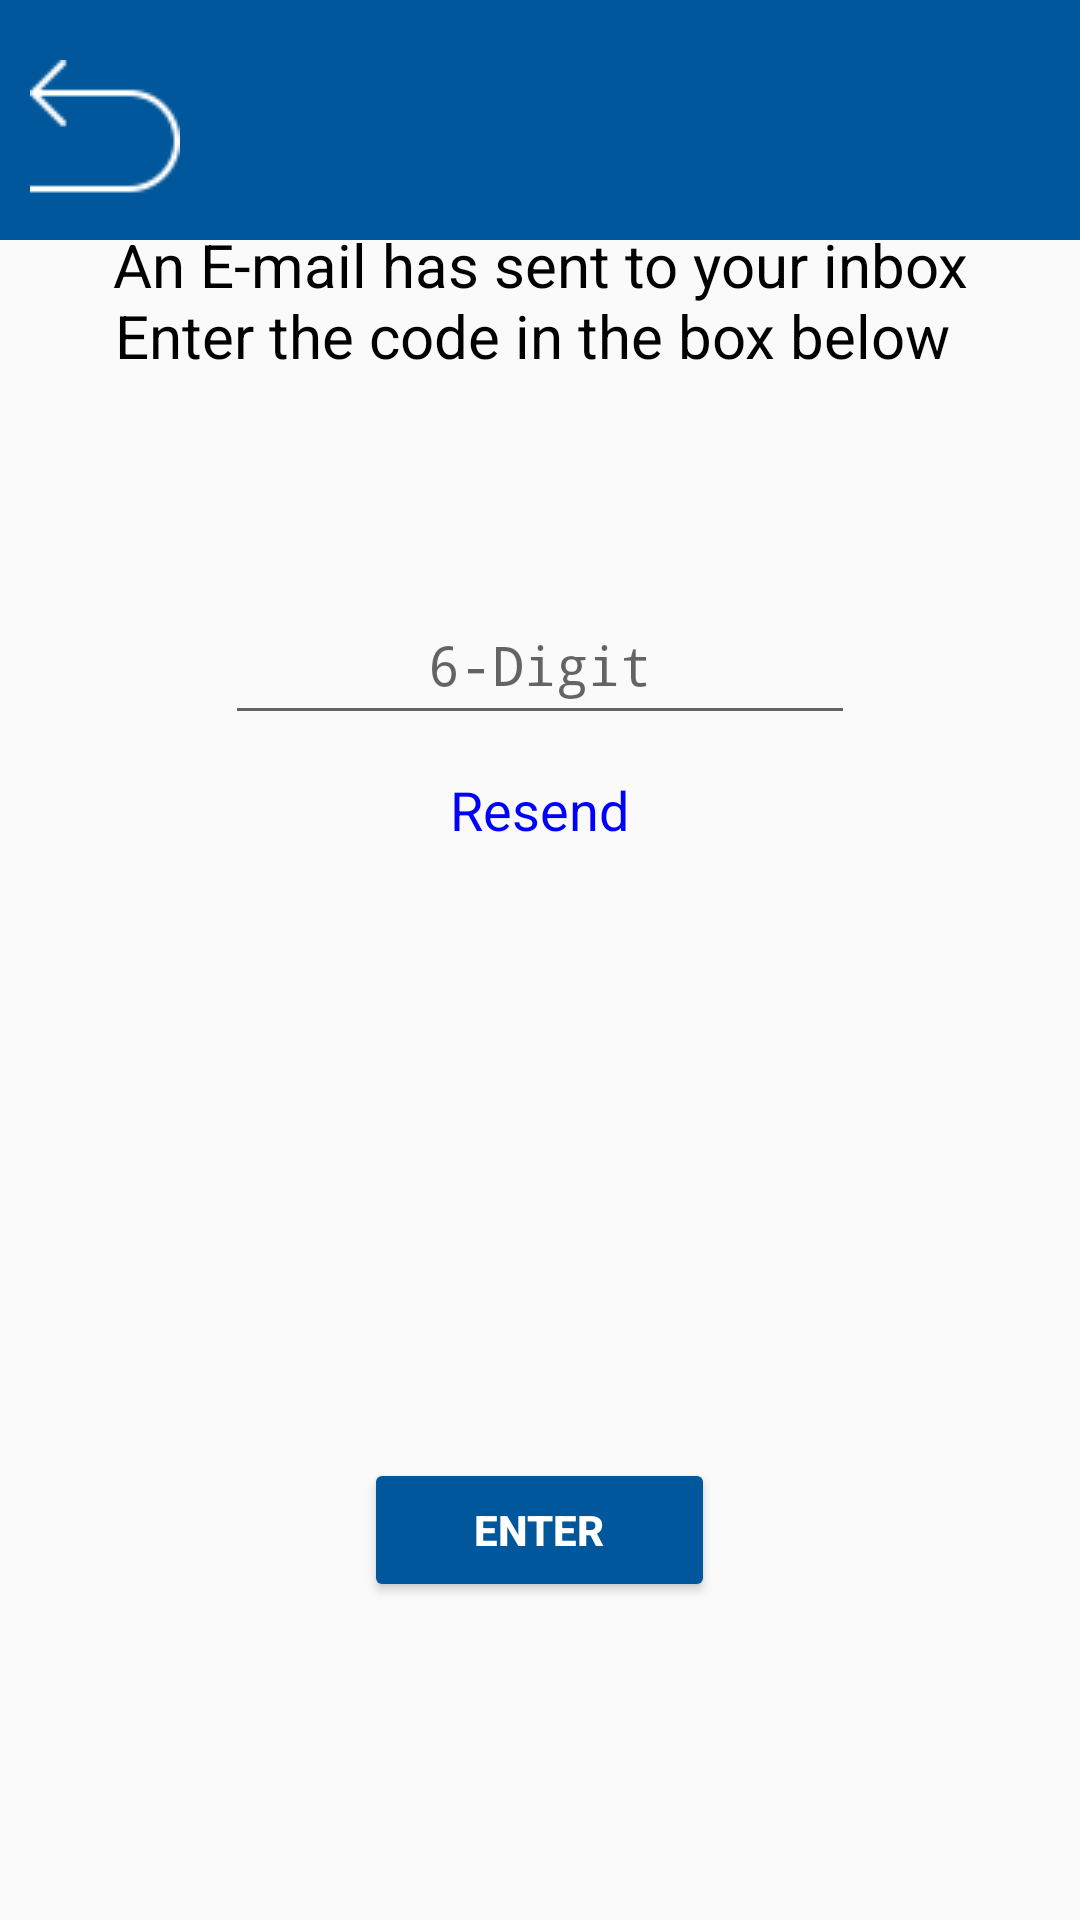

Screen size 1080*1920. Icon name, then its center in pixels as [x,y]:
backicon: [105,126]
